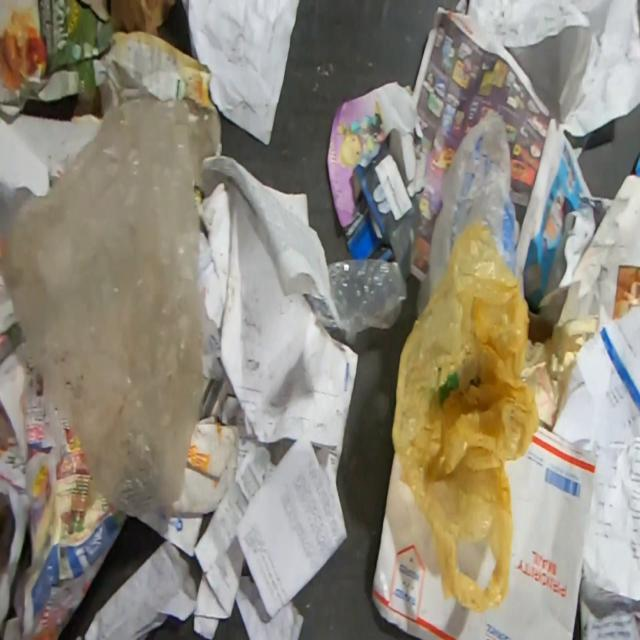cardboard: (371, 425, 600, 639), (0, 0, 118, 119), (164, 413, 242, 518), (110, 0, 178, 38)
soft_plastic: (0, 91, 219, 518), (390, 218, 540, 614), (414, 107, 525, 316), (302, 258, 408, 348)
